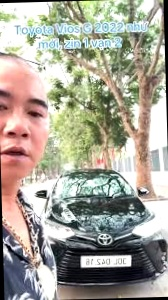Bien-so: (81, 249, 135, 263)
